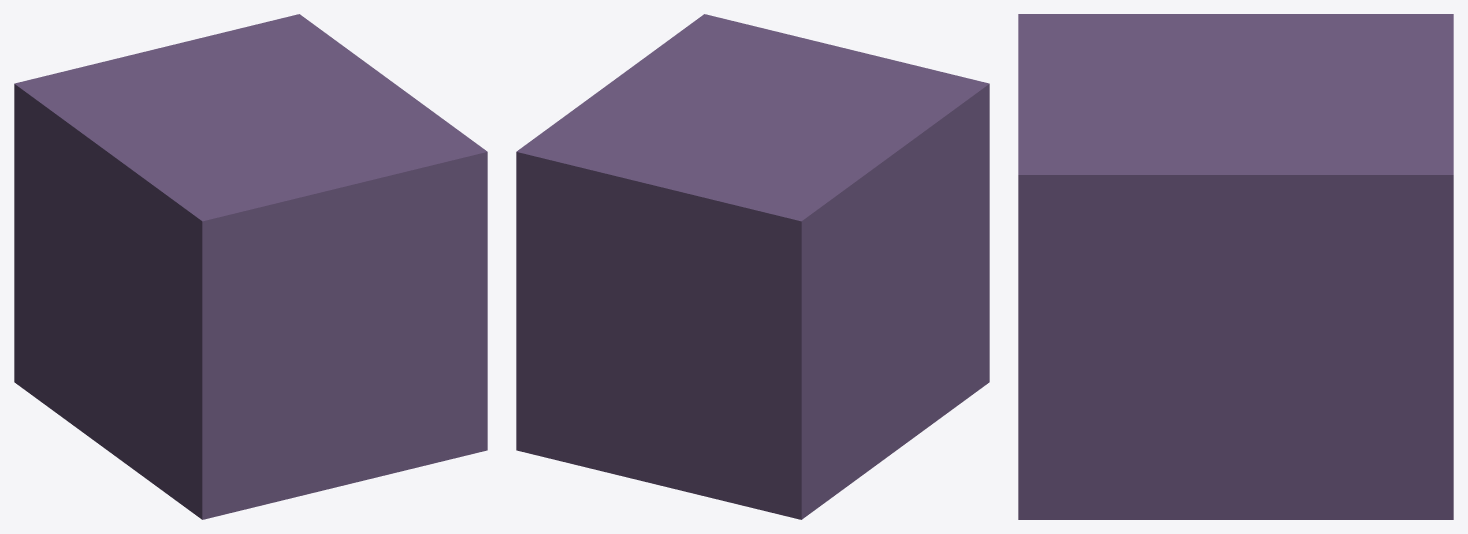
File: SkyBlueCubeGridGold.gltf
3 views of the same model, side by side, from view 1: azimuth 30°, elevation 25°; view 2: azimuth 150°, elevation 25°; view 3: azimuth 270°, elevation 25° (orthographic). The views are drawn at different scales.
Parts seen in each view (by area): view 1: Muted purple enclosure inward-facing interior; view 2: Muted purple enclosure inward-facing interior; view 3: Muted purple enclosure inward-facing interior.
Part boxes in pixels (x1,y1,x2,y2): Muted purple enclosure inward-facing interior: [14, 14, 487, 519]; Muted purple enclosure inward-facing interior: [516, 14, 989, 519]; Muted purple enclosure inward-facing interior: [1018, 14, 1453, 519].
Size of the model in its own units: 10.5 by 10.5 by 12.
